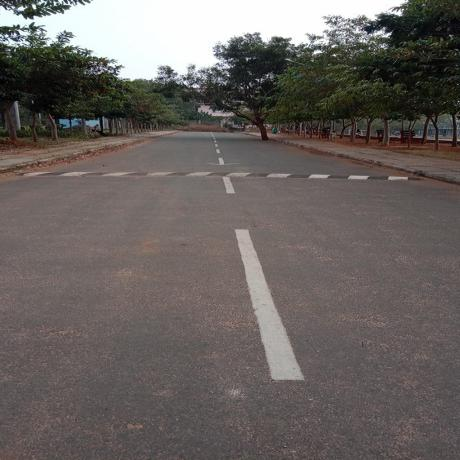Speed Bump: (26, 168, 422, 183)
